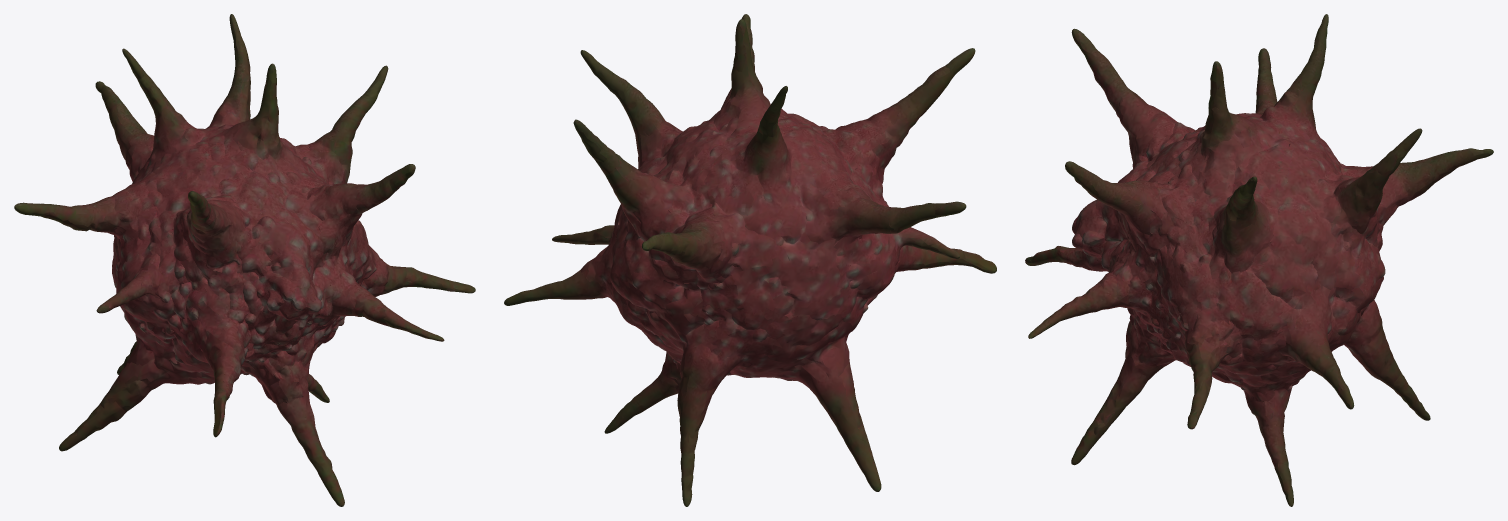
Rendered from virus.meshopt.glb.
The picture shows the model from 3 angles, left to right: view 1: azimuth 30°, elevation 25°; view 2: azimuth 150°, elevation 25°; view 3: azimuth 270°, elevation 25°; orthographic projection. The views are drawn at different scales.
Visible parts, largest first — view 1: output_unwrapped; view 2: output_unwrapped; view 3: output_unwrapped.
Boxes of the visible parts, x1,y1,x2,y2 form: output_unwrapped: (14, 14, 475, 506); output_unwrapped: (504, 14, 996, 506); output_unwrapped: (1025, 14, 1493, 506).
Bounding box in the file's own units: 1.9 × 1.67 × 1.76.
1 material, 1 textured.
